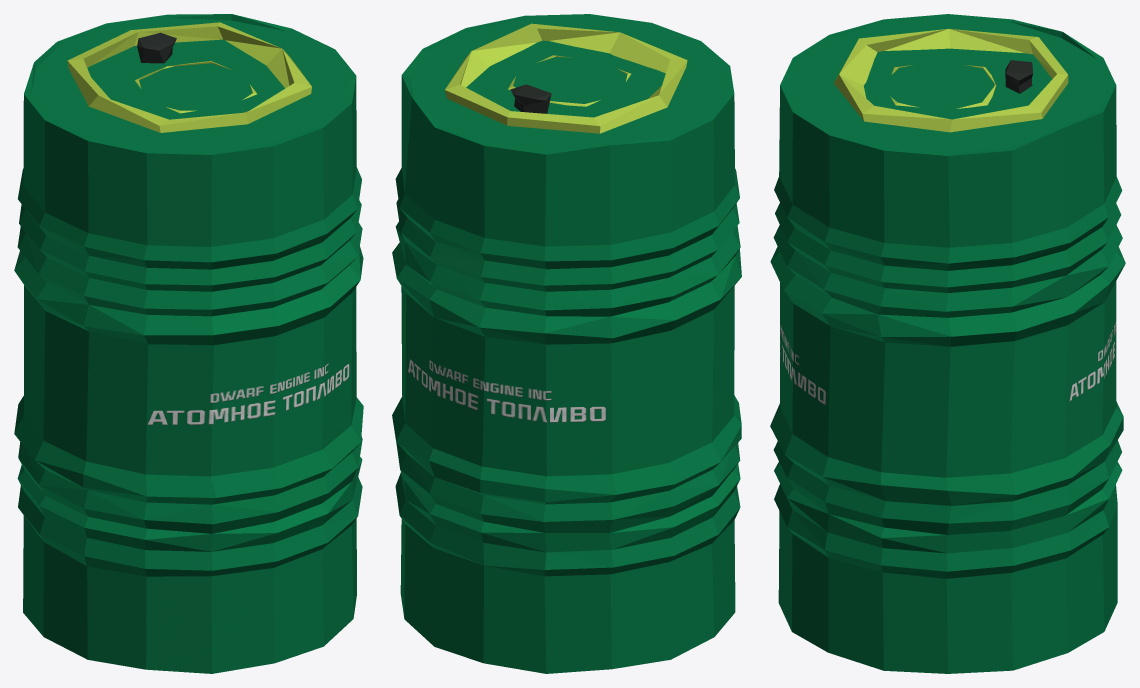
File: barell1.fbx
3 renders of one model, left to right at view 1: azimuth 30°, elevation 25°; view 2: azimuth 150°, elevation 25°; view 3: azimuth 270°, elevation 25°, orthographic.
Parts seen in each view (by area): view 1: Cube; view 2: Cube; view 3: Cube.
Boxes of the visible parts, left/top/right/bottom form: Cube: left=14, top=14, right=363, bottom=673; Cube: left=392, top=14, right=741, bottom=673; Cube: left=770, top=14, right=1125, bottom=673.
Size of the model in its own units: 195 by 325 by 195.
